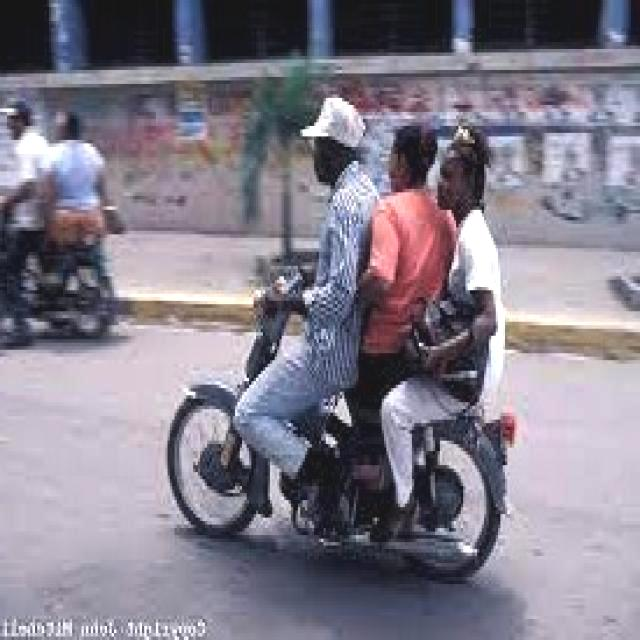motorcycle: (156, 262, 522, 584)
person: (418, 114, 520, 470), (288, 85, 379, 468), (355, 114, 465, 420)
rider_region: (160, 89, 527, 582)
